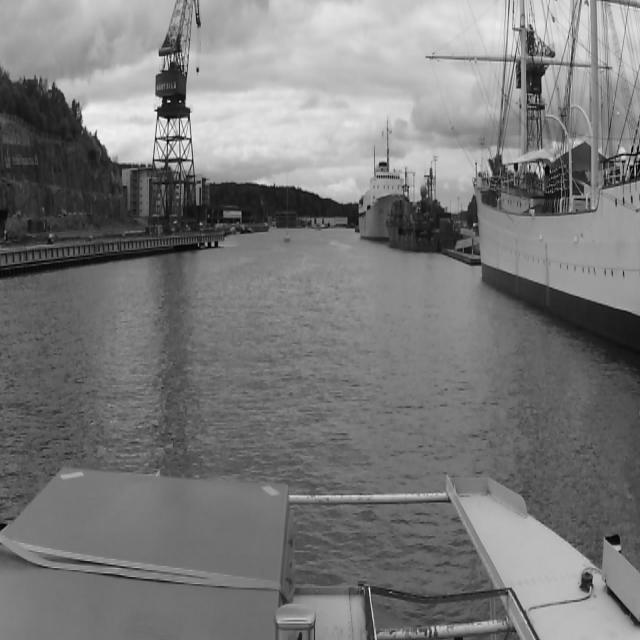ship: (425, 0, 639, 362), (381, 177, 465, 250), (359, 162, 405, 242), (385, 195, 439, 253), (284, 172, 290, 244)
